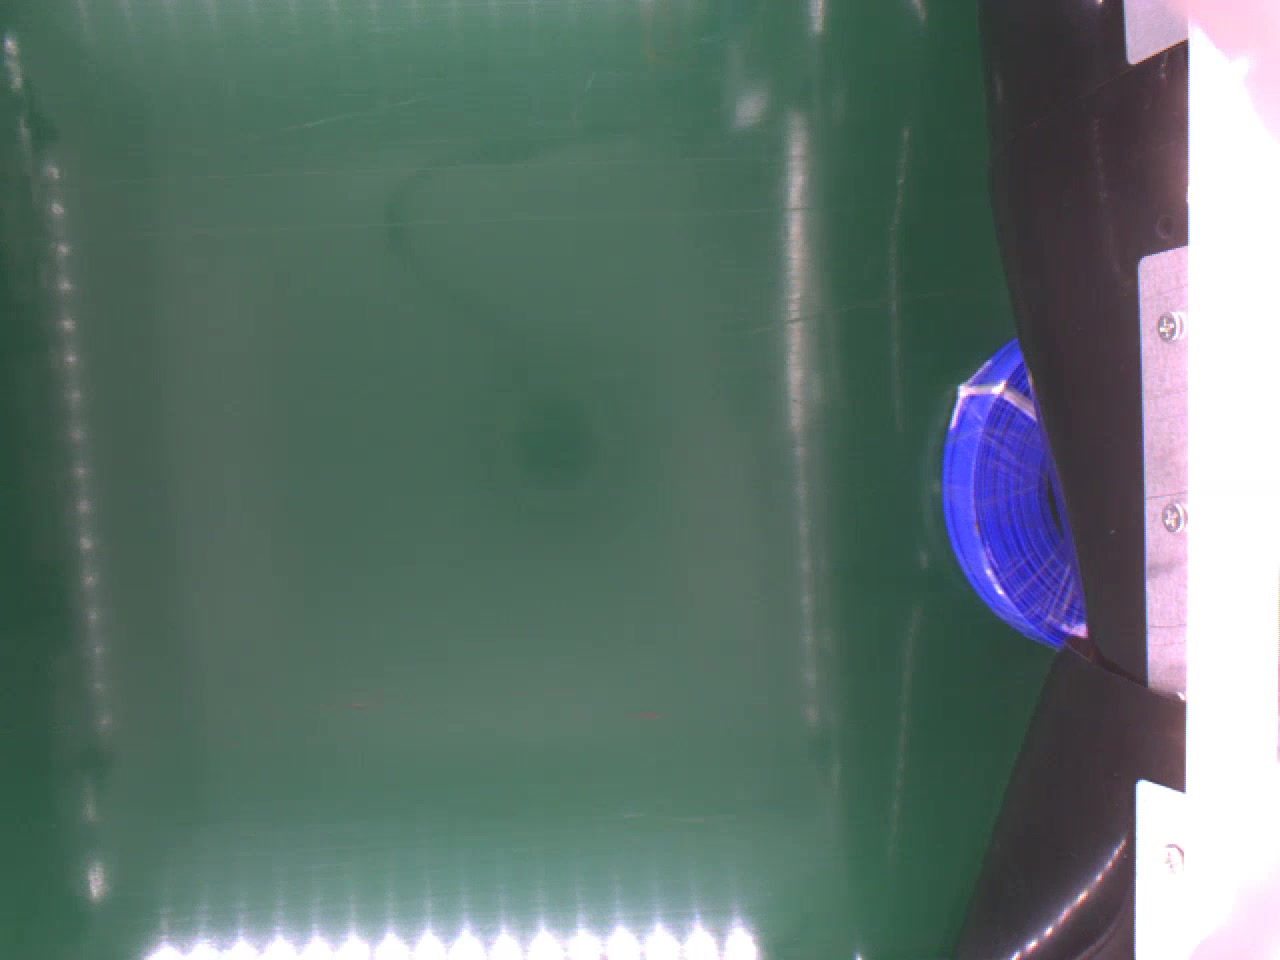blue: (941, 333, 1082, 652)
